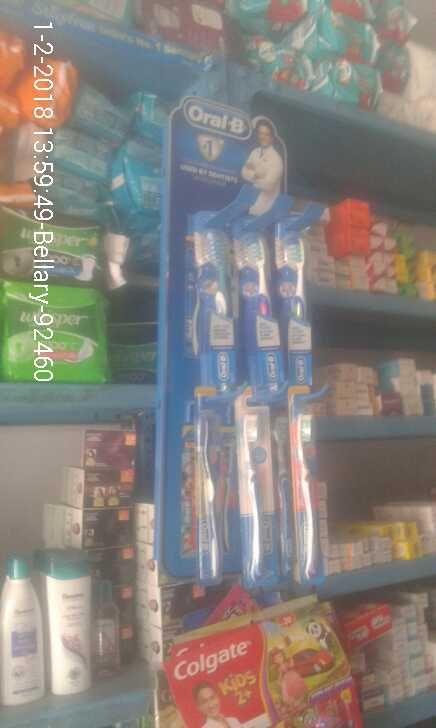pharmacy: (199, 405, 325, 584), (192, 218, 318, 395), (4, 279, 115, 386)
